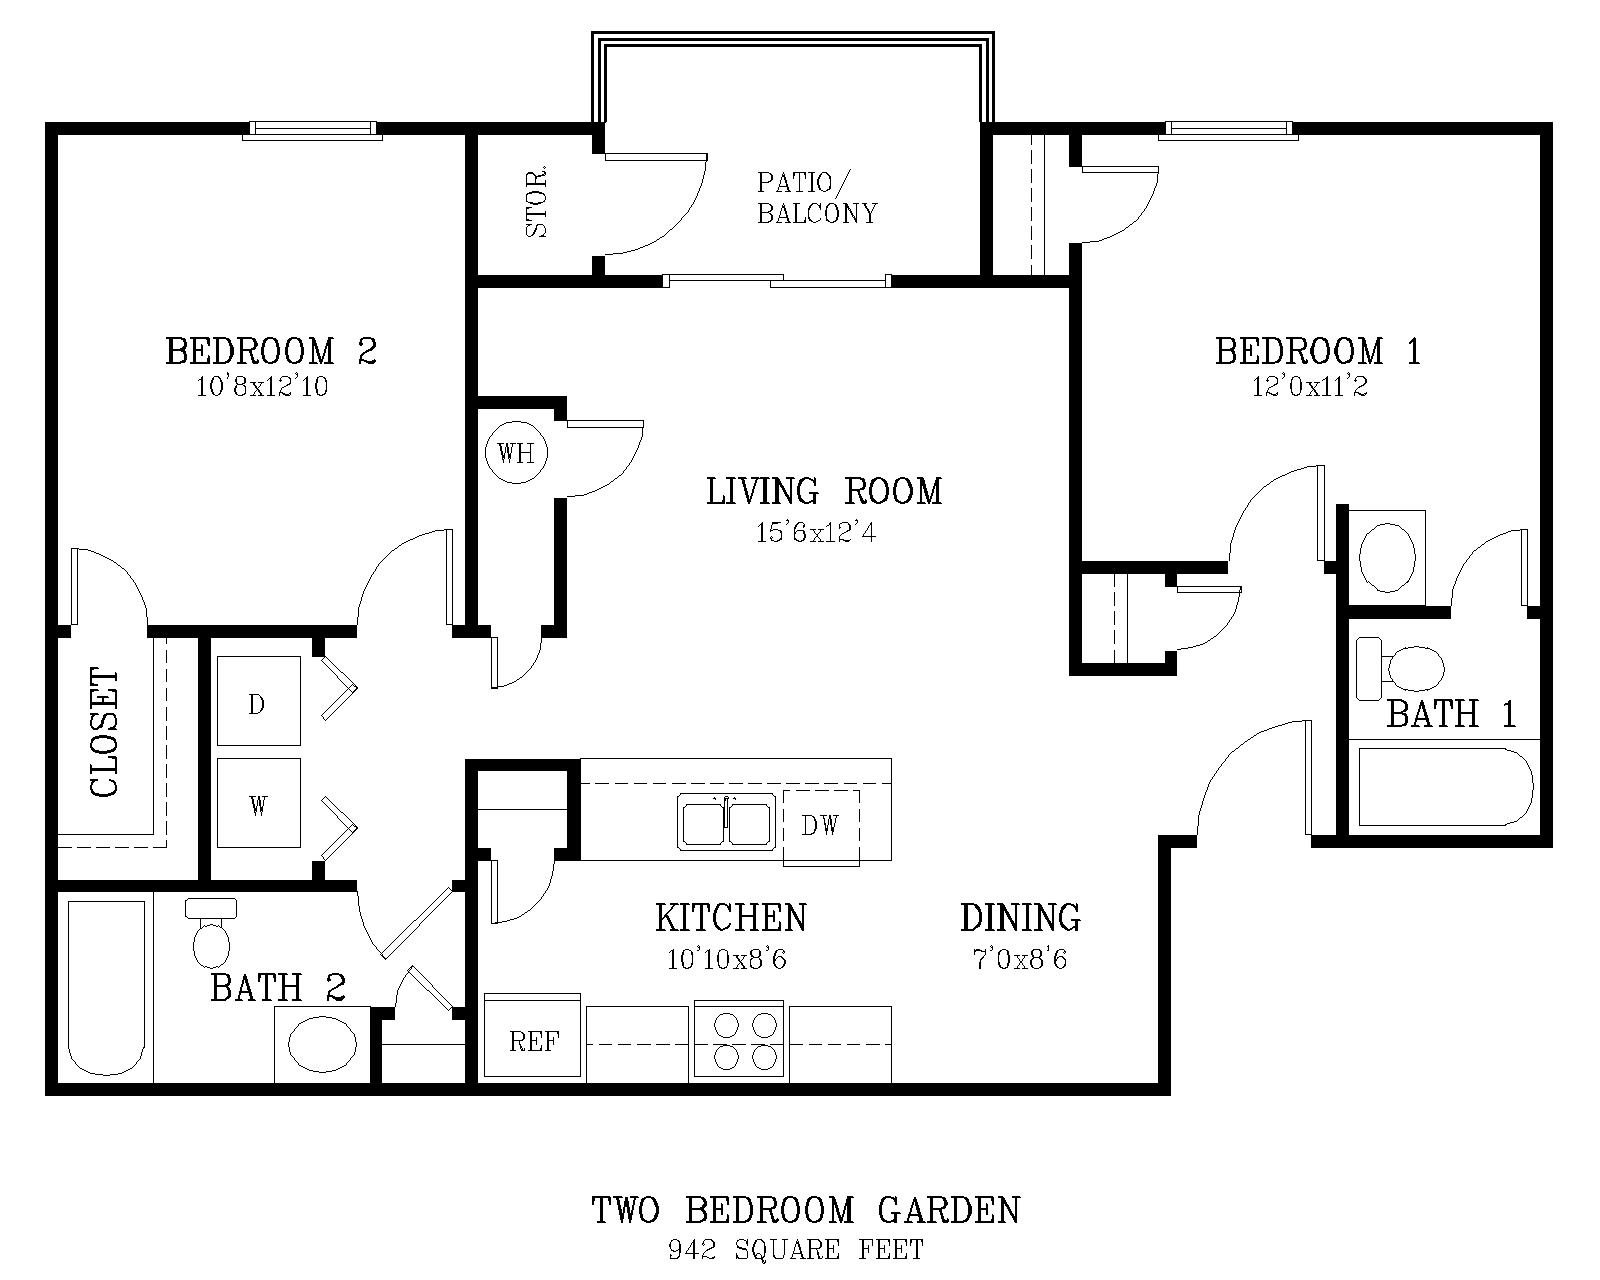door: (306, 657, 384, 859), (1189, 708, 1317, 827), (609, 146, 718, 253), (1223, 457, 1330, 552), (355, 522, 458, 614), (68, 539, 176, 623), (1084, 162, 1179, 249), (571, 415, 658, 507), (345, 900, 451, 963), (1448, 522, 1533, 600), (1179, 583, 1251, 660), (486, 865, 558, 934), (481, 643, 552, 694), (380, 961, 460, 1003)
